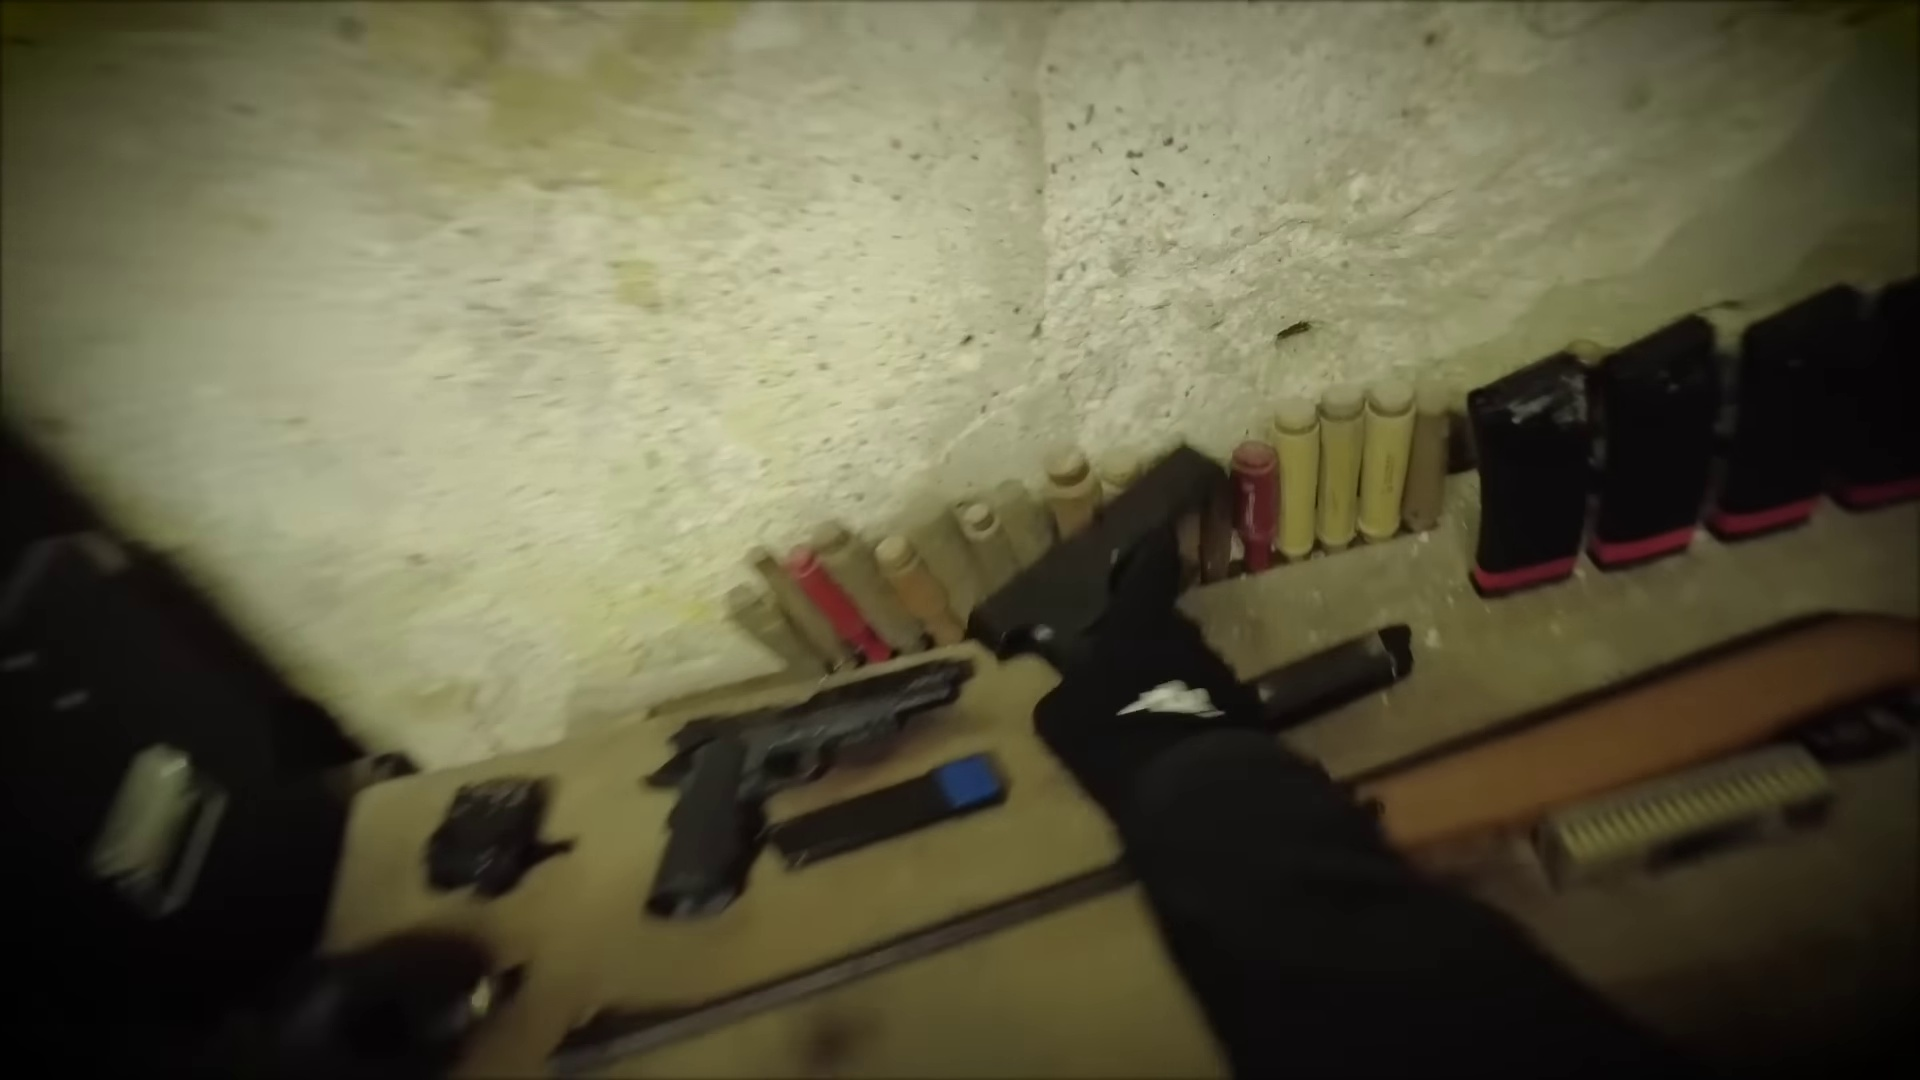gun: (642, 649, 969, 924), (956, 429, 1249, 688)
p_w_gun: (959, 435, 1702, 1080)
